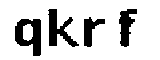f: (114, 9, 140, 50)
k: (46, 8, 78, 51)
q: (13, 16, 42, 60)
r: (80, 16, 105, 49)
